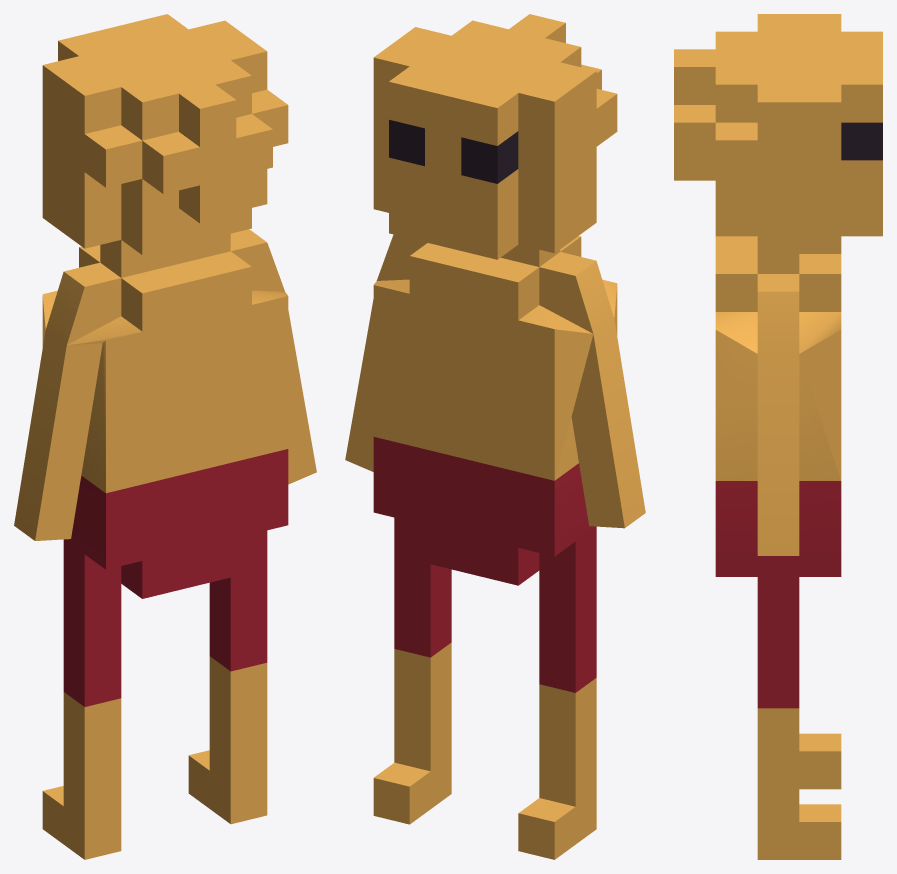
Rendered from human-walking.fbx.
3 renders of one model, left to right at view 1: azimuth 30°, elevation 25°; view 2: azimuth 150°, elevation 25°; view 3: azimuth 270°, elevation 25°, orthographic.
Visible parts, largest first — view 1: ObjObject.002; view 2: ObjObject.002; view 3: ObjObject.002.
Part boxes in pixels (x1,y1,x2,y2): ObjObject.002: (14,14,316,859); ObjObject.002: (345,14,645,859); ObjObject.002: (674,14,882,859).
Size of the model in its own units: 77.21 by 200 by 50.
Materials: 1 (1 with a texture image).
